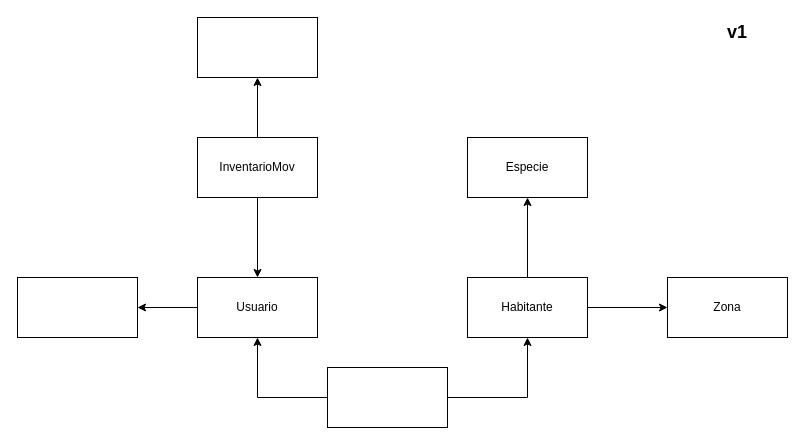
This 805x445 diagram has some shape labels left out. The centre of each missing label's shape, as x and y in pixels:
InventarioItem: (257,47)
Membresías (apadrinamientos): (387,397)
Tarea: (77,307)
